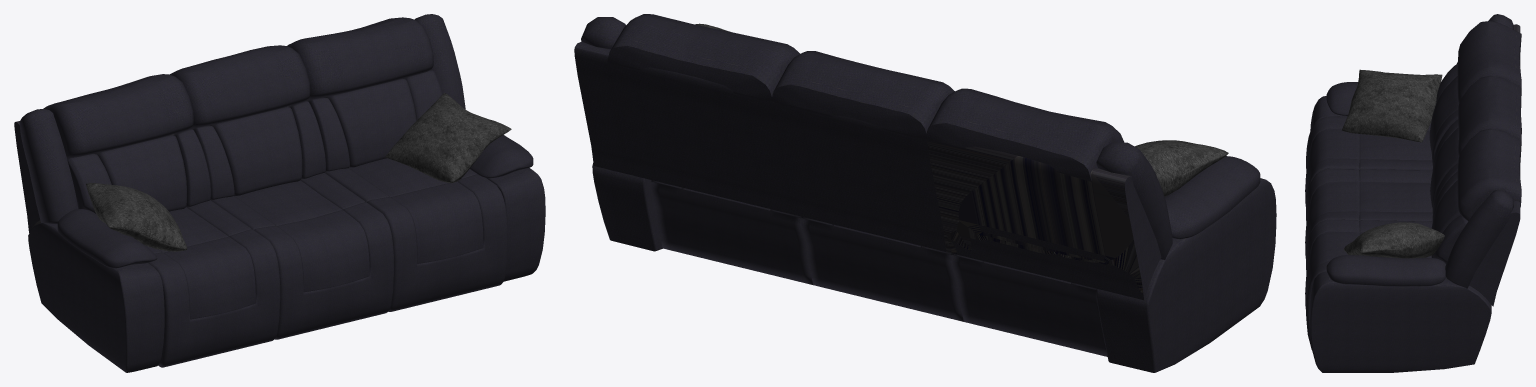
Rendered from couch_with_pillows.glb.
3 renders of one model, left to right at view 1: azimuth 30°, elevation 25°; view 2: azimuth 150°, elevation 25°; view 3: azimuth 270°, elevation 25°, orthographic. The views are drawn at different scales.
Visible parts, largest first — view 1: polySurface3761, pillow_02, pillow_03; view 2: polySurface3761, pillow_03; view 3: polySurface3761, pillow_03, pillow_02.
Boxes of the visible parts, bbox=[...] form: polySurface3761: bbox=[14, 14, 545, 372]; pillow_02: bbox=[385, 93, 511, 182]; pillow_03: bbox=[86, 183, 186, 251]; polySurface3761: bbox=[574, 14, 1276, 372]; pillow_03: bbox=[1135, 140, 1228, 196]; polySurface3761: bbox=[1305, 14, 1521, 372]; pillow_03: bbox=[1341, 69, 1442, 142]; pillow_02: bbox=[1343, 222, 1444, 258].
Bounding box in the file's own units: 217 × 96.18 × 102.
2 materials, 2 textured.
